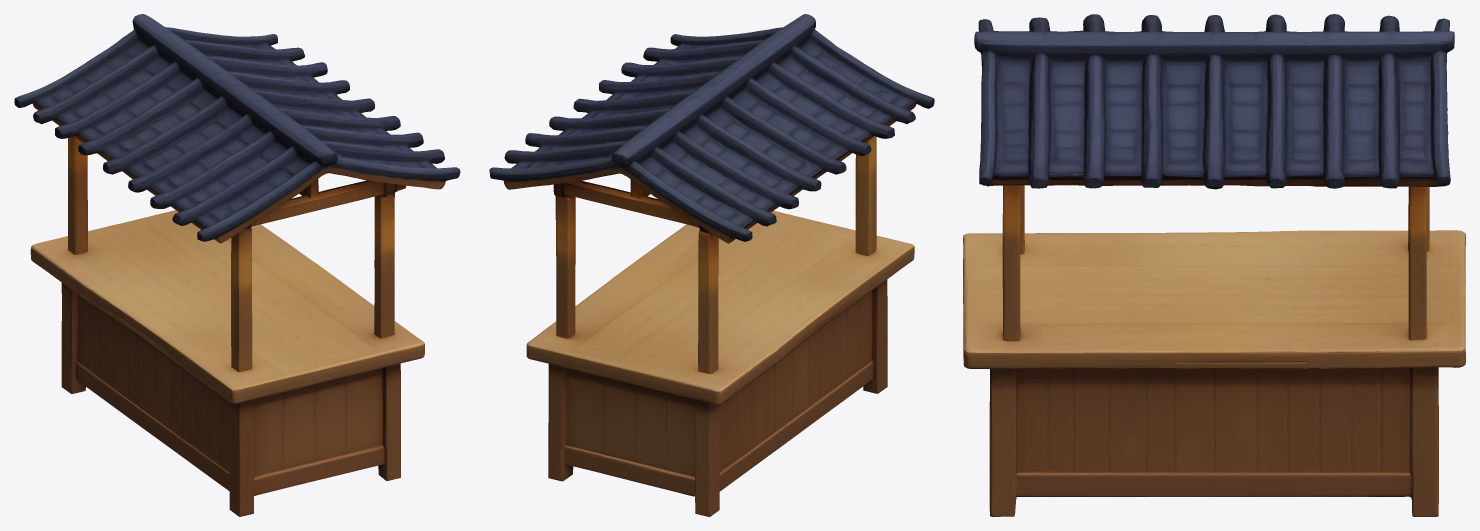
File: stall.fbx
3 renders of one model, left to right at view 1: azimuth 30°, elevation 25°; view 2: azimuth 150°, elevation 25°; view 3: azimuth 270°, elevation 25°, orthographic. The views are drawn at different scales.
Parts seen in each view (by area): view 1: geometry_0; view 2: geometry_0; view 3: geometry_0.
Boxes of the visible parts, left/top/right/bottom form: geometry_0: left=14, top=14, right=460, bottom=516; geometry_0: left=489, top=14, right=934, bottom=516; geometry_0: left=963, top=14, right=1465, bottom=516.
Size of the model in its own units: 0.7687 by 0.9462 by 0.9875.
1 material, 1 textured.
